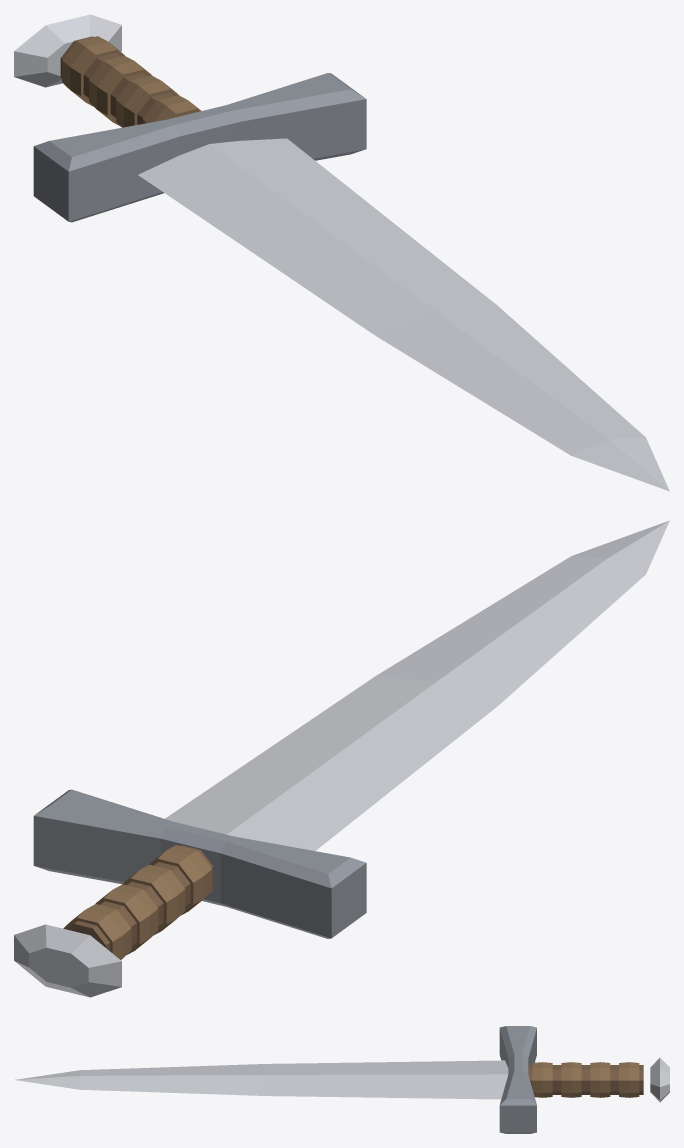
Rendered from armingsword.glb.
The picture shows the model from 3 angles, top to bottom: view 1: azimuth 30°, elevation 25°; view 2: azimuth 150°, elevation 25°; view 3: azimuth 270°, elevation 25°; orthographic projection. The views are drawn at different scales.
Parts seen in each view (by area): view 1: armingsword; view 2: armingsword; view 3: armingsword.
Boxes of the visible parts, x1=… form: armingsword: x1=14, y1=14, x2=669, y2=491; armingsword: x1=14, y1=520, x2=669, y2=997; armingsword: x1=15, y1=1026, x2=669, y2=1133.
Size of the model in its own units: 0.28 by 0.0585 by 0.995.
